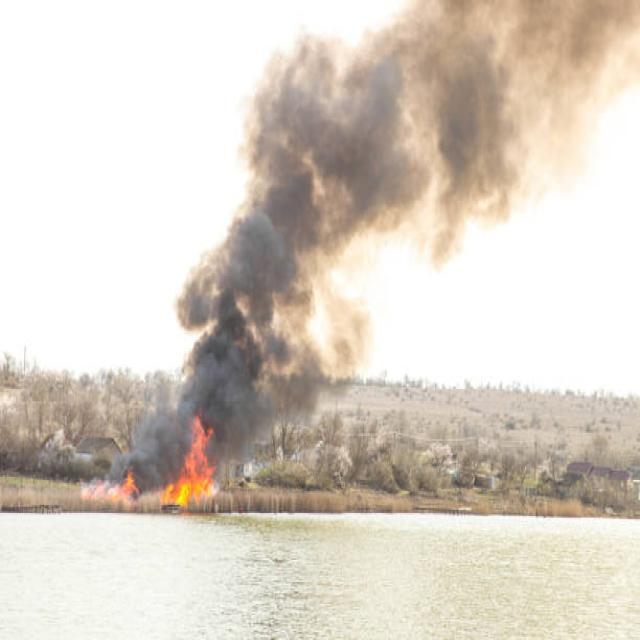Fire: (137, 439, 238, 509)
Smoke: (260, 72, 490, 192), (417, 4, 640, 92), (214, 210, 316, 356)
